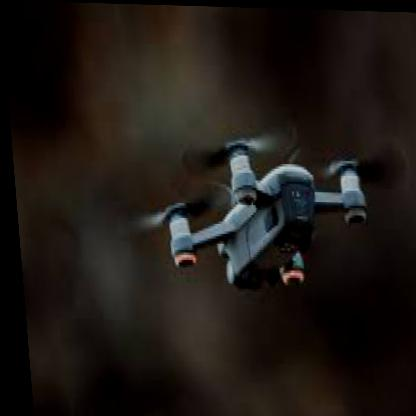UAS: (157, 132, 368, 289)
